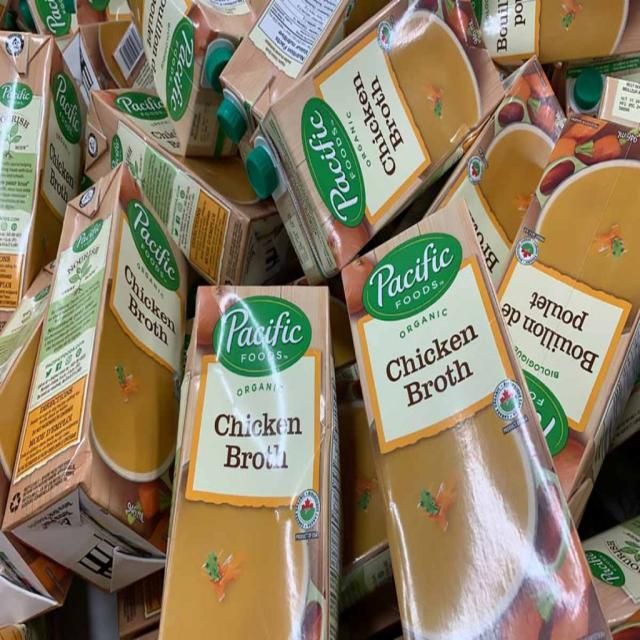cardboard: (347, 202, 603, 640), (450, 61, 640, 511), (0, 170, 174, 640), (217, 0, 504, 266), (165, 279, 340, 640), (76, 0, 282, 283), (0, 14, 81, 296)
